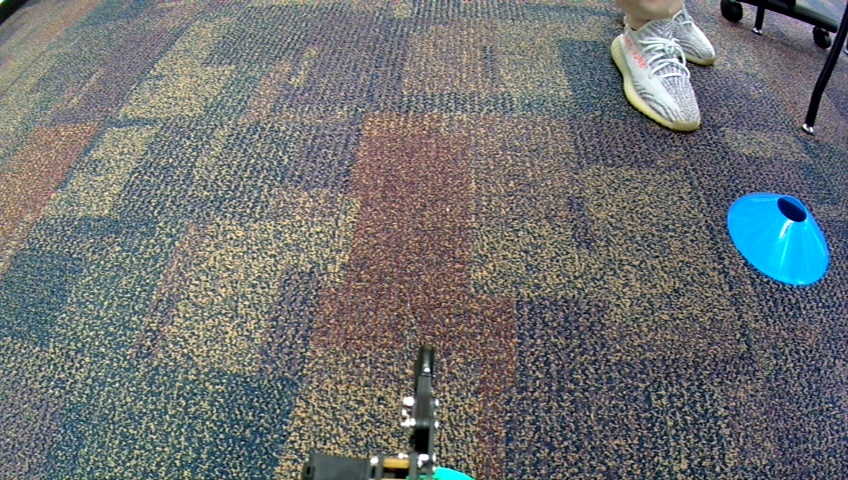cone: (724, 190, 832, 288)
